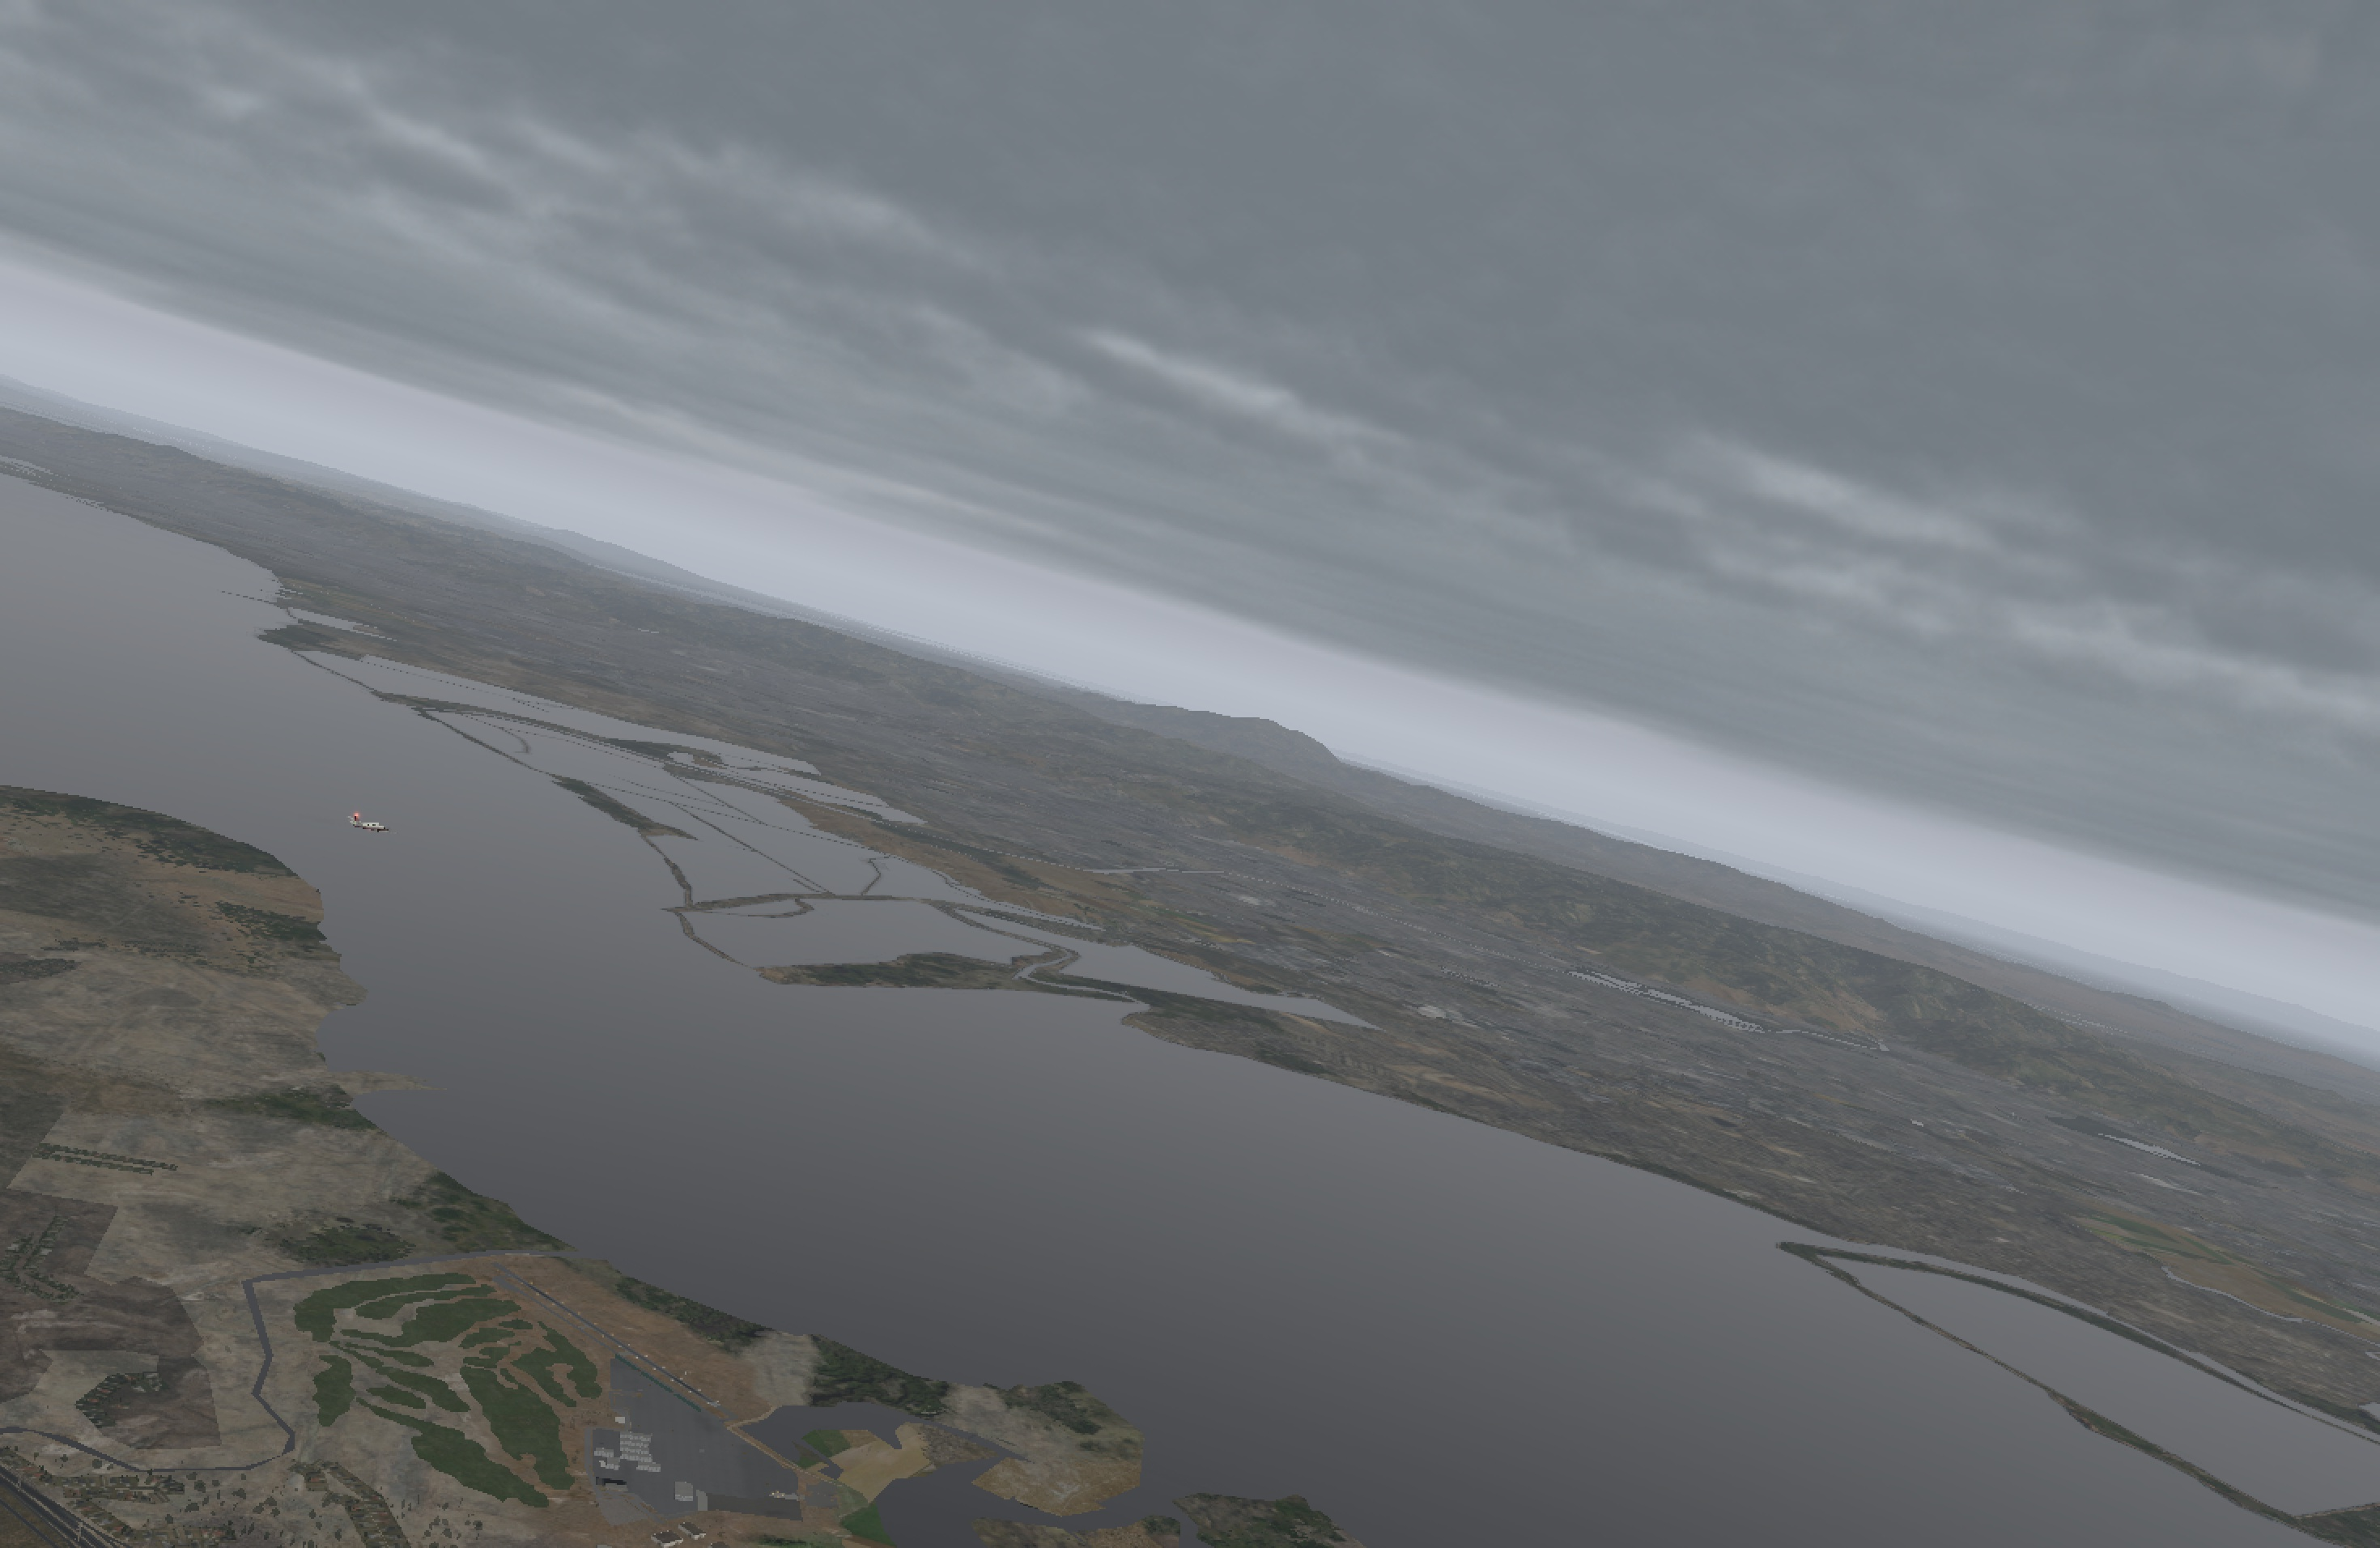aircraft: (342, 817, 406, 842)
